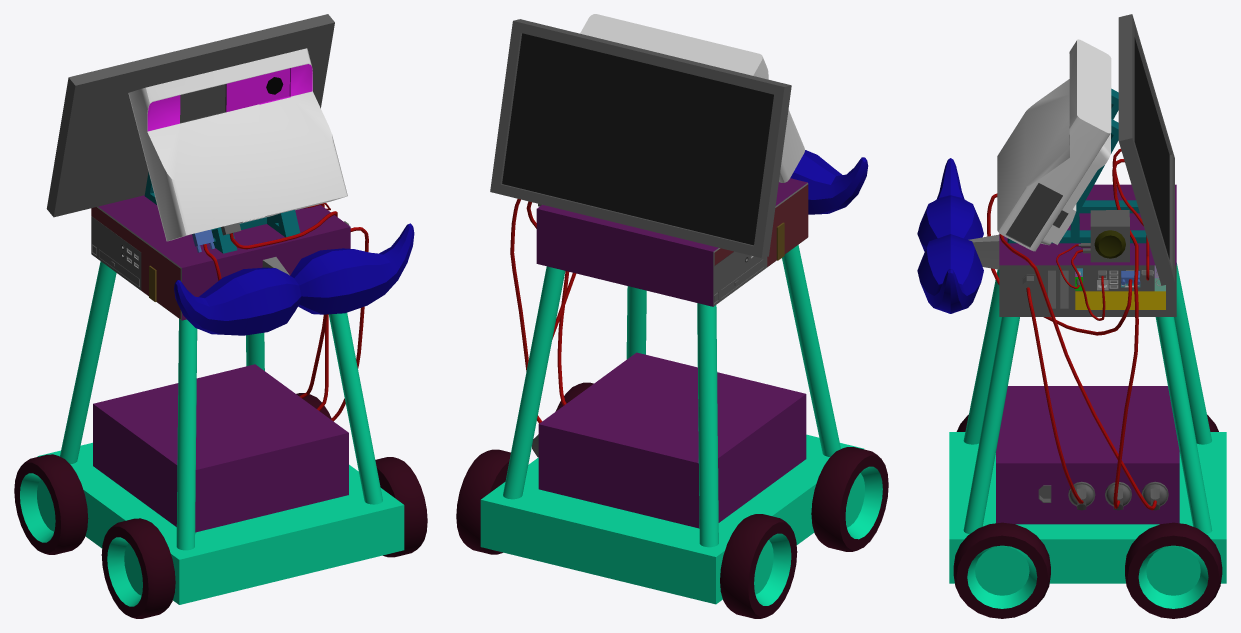
File: robotProjektor.fbx
3 renders of one model, left to right at view 1: azimuth 30°, elevation 25°; view 2: azimuth 150°, elevation 25°; view 3: azimuth 270°, elevation 25°, orthographic. The views are drawn at different scales.
Visible parts, largest first — view 1: notPluto; view 2: notPluto; view 3: notPluto.
Boxes of the visible parts, x1,y1,x2,y2 form: notPluto: [14, 14, 427, 618]; notPluto: [456, 14, 888, 618]; notPluto: [917, 14, 1226, 618].
Bounding box in the file's own units: 51.6 × 86.34 × 50.56.
